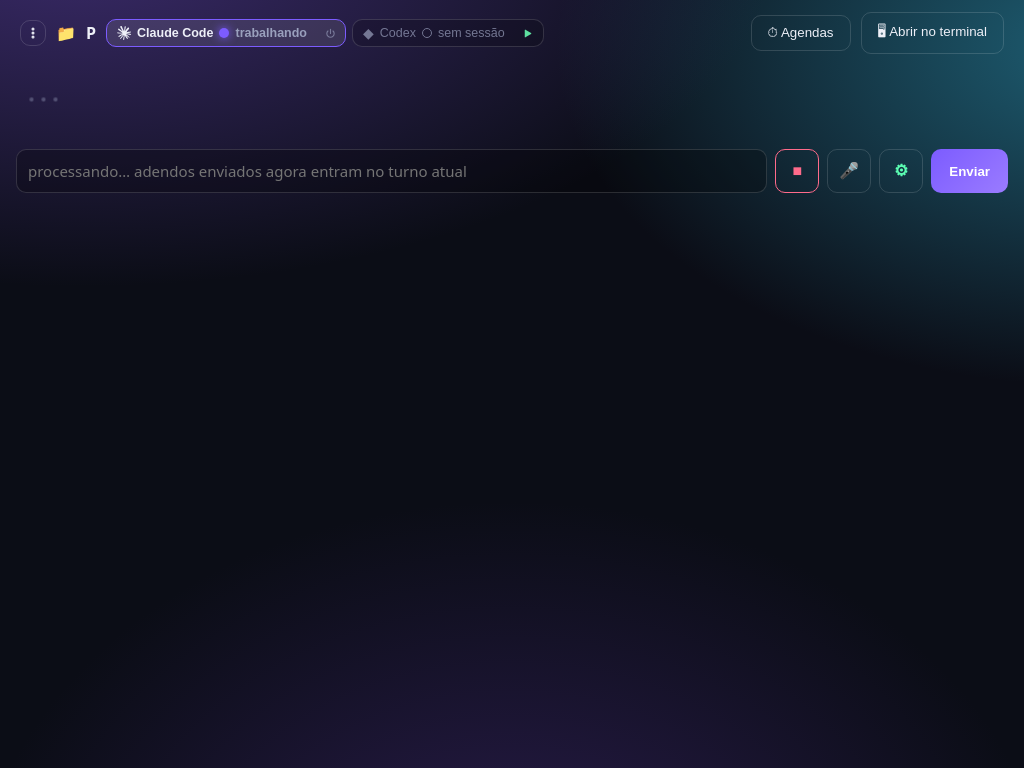
durante working o botão "Abrir no terminal" fica habilitado mas abre um diálogo de confirmação em vez de ir direto
Click the button "🖥 Abrir no terminal" at [932, 33], box [860,12,1004,54]
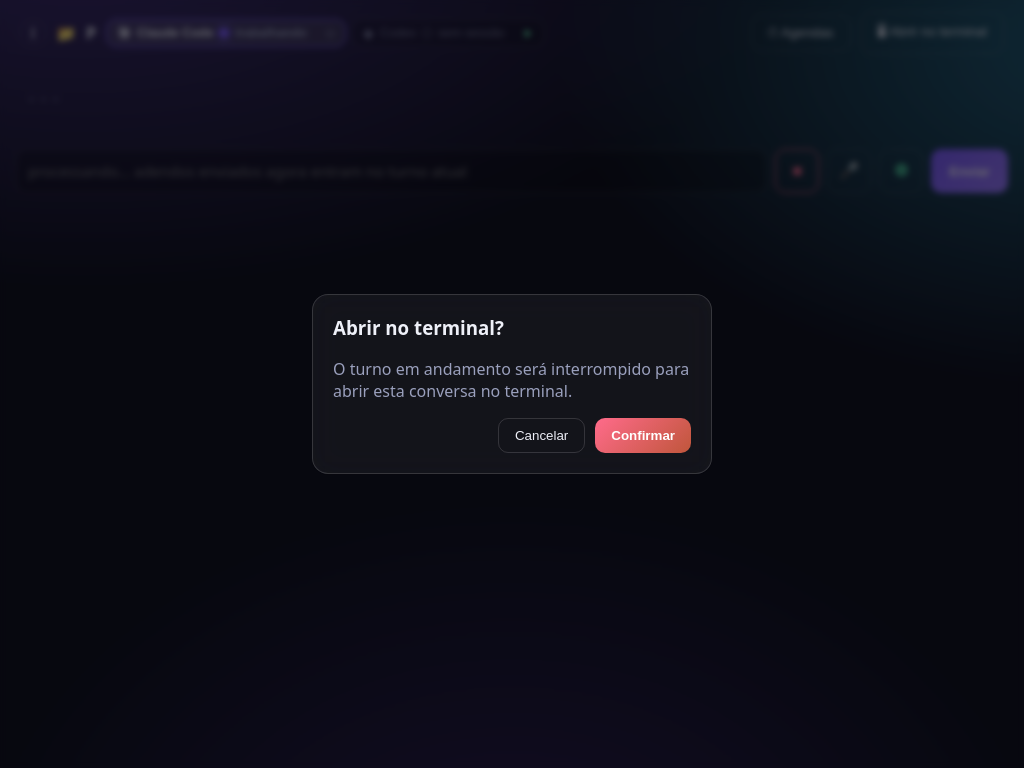
Expected: the text "O turno em andamento será interrompido para abrir esta conversa no terminal." is shown, [333,358,691,402]
